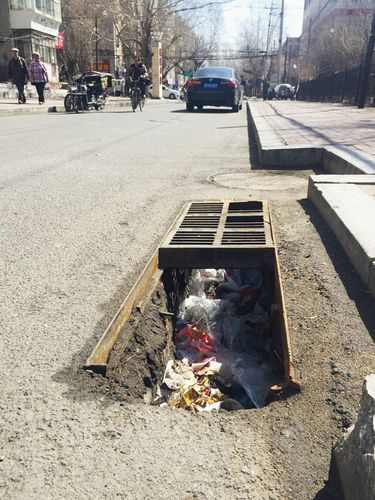lose: (80, 249, 322, 411)
